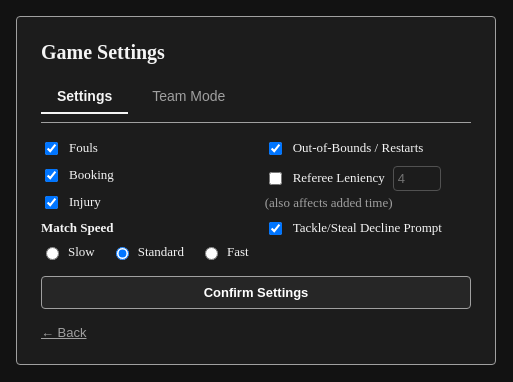
Test: GameSettingsScreen — Match Rules: Fouls/Booking/Injury toggles (D-12/D-13/D-14, Phase 39) › re-checking Fouls re-enables Booking/Injury and removes the helper text
Click the checkbox labelled "Fouls".
click(52, 148)  # box x1=45 y1=142 x2=58 y2=154
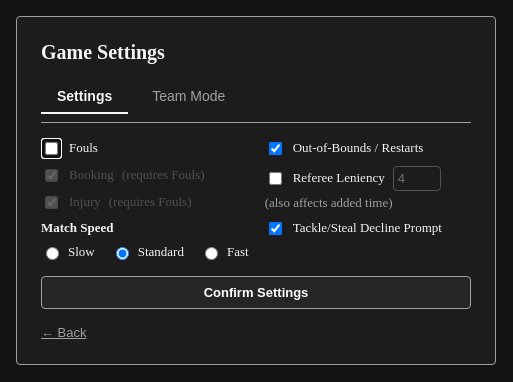
Check: the text "(requires Fouls)" is shown 2 times, box x1=122 y1=167 x2=204 y2=183; x1=109 y1=194 x2=192 y2=210
Click the checkbox labelled "Fouls".
click(52, 148)  # box x1=45 y1=142 x2=58 y2=154
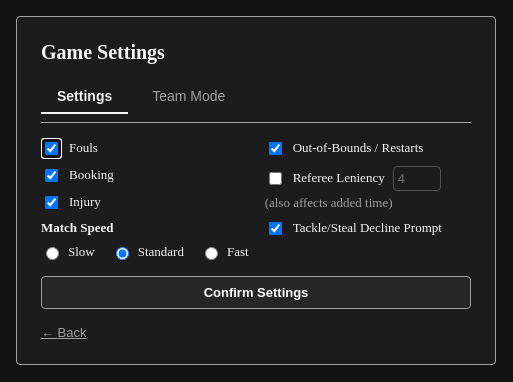
Check: the checkbox labelled "Booking" is enabled, box x1=45 y1=168 x2=58 y2=182
Check: the checkbox labelled "Injury" is enabled, box x1=45 y1=196 x2=58 y2=208
Check: the text "(requires Fouls)" is gone
